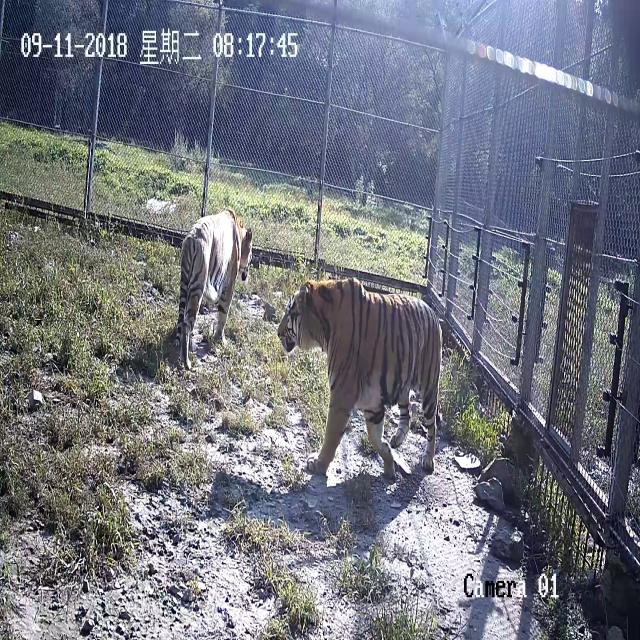Tiger: (271, 274, 456, 492), (160, 169, 258, 370)
